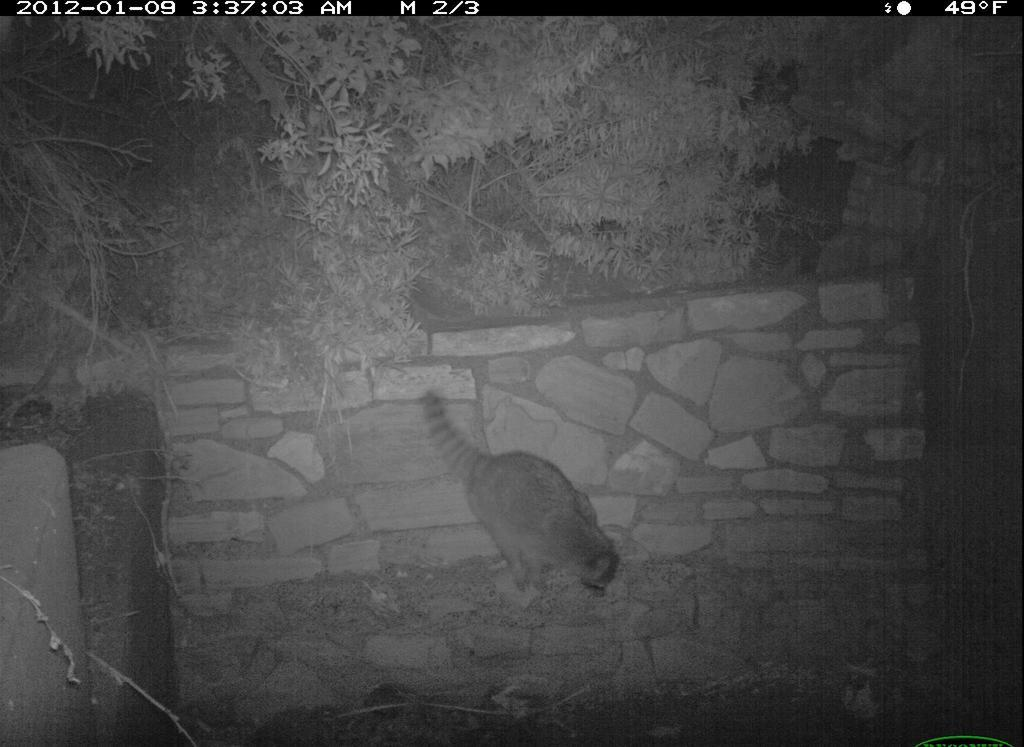raccoon: (405, 377, 643, 615)
